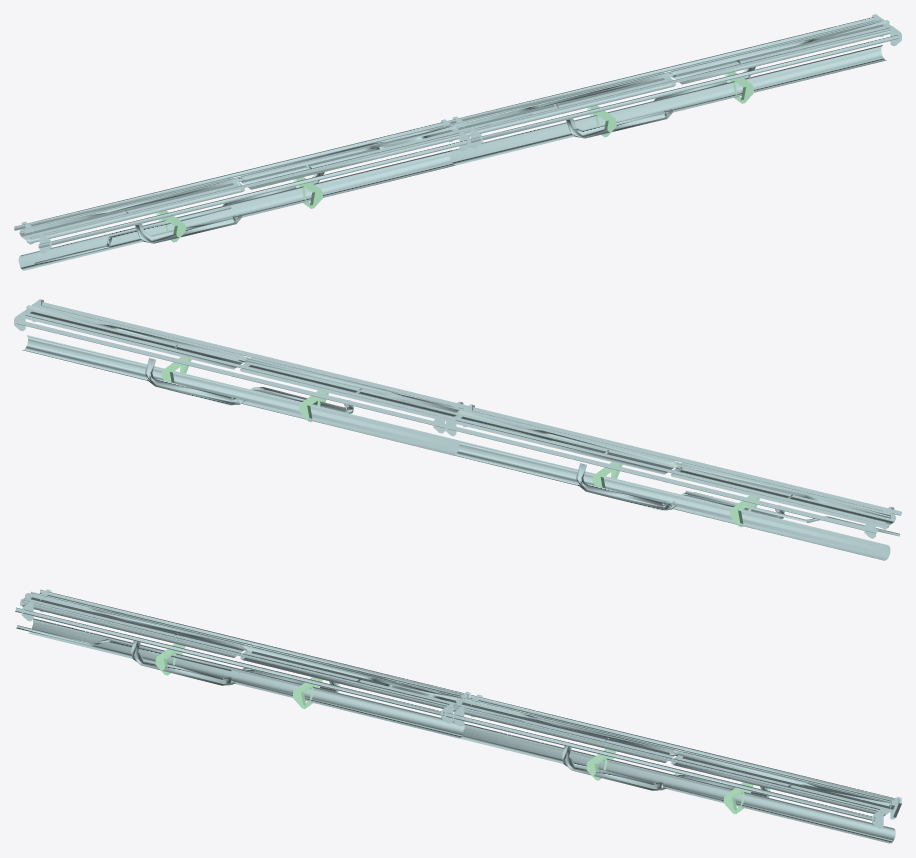
File: backdrop_bridge_a_lod1.glb
3 views of the same model, one above another, from view 1: azimuth 30°, elevation 25°; view 2: azimuth 150°, elevation 25°; view 3: azimuth 330°, elevation 25° (orthographic).
Bounding box in the file's own units: 340 × 16.1 × 19.
